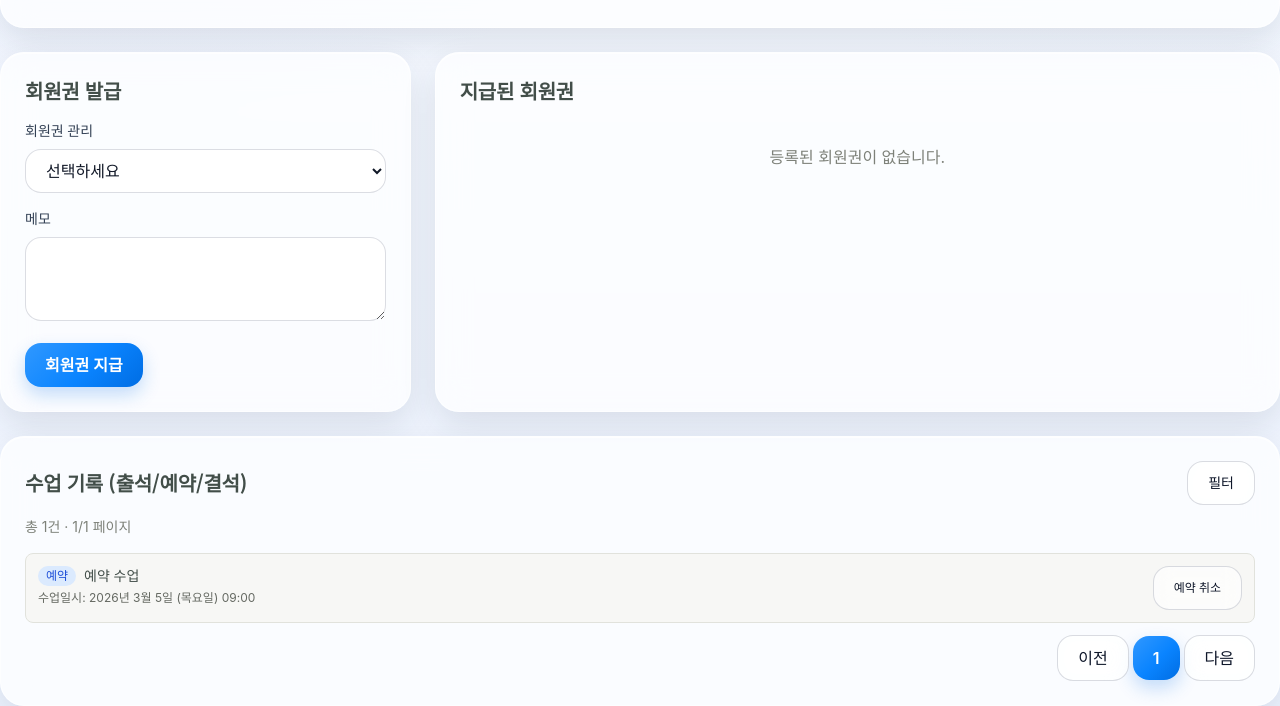
CustomerDetail page › allows canceling reserved class from activity list
(page scrolled)
Step 1. Click the button "예약 취소" → click(1197, 588), box x1=1153 y1=566 x2=1242 y2=610
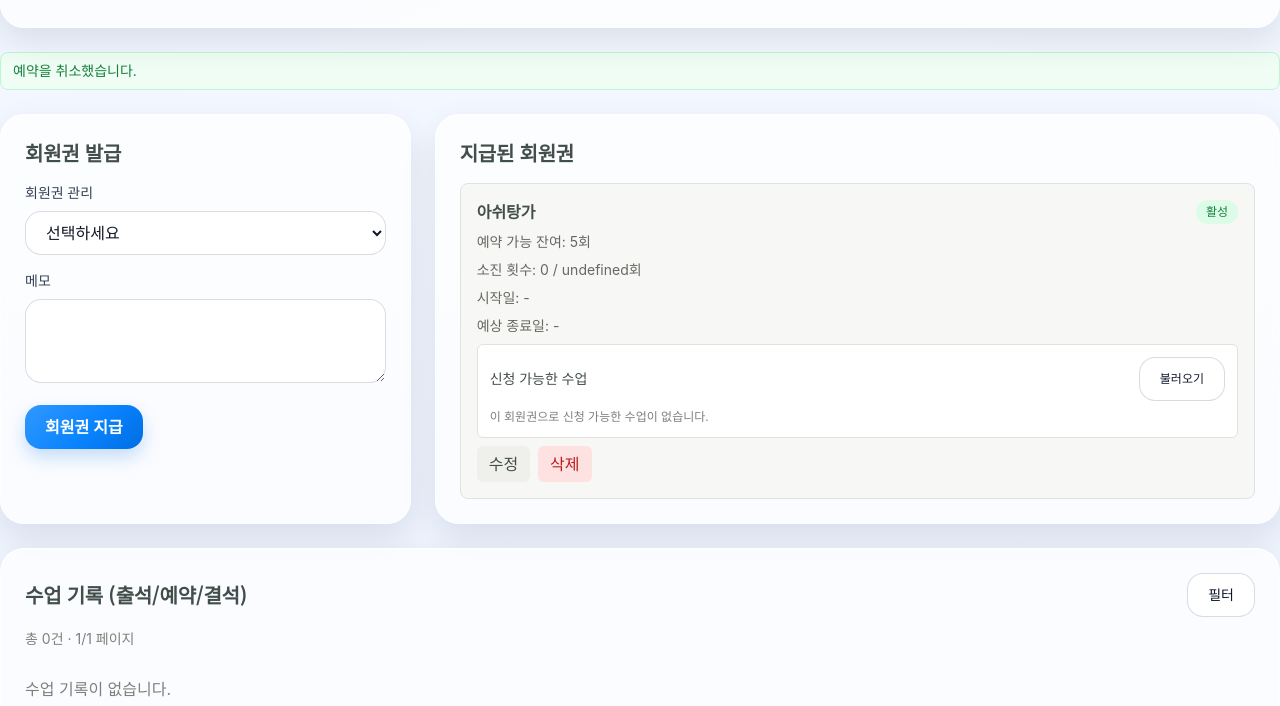
Check: the text "예약을 취소했습니다." is shown, box x1=0 y1=52 x2=1279 y2=90
